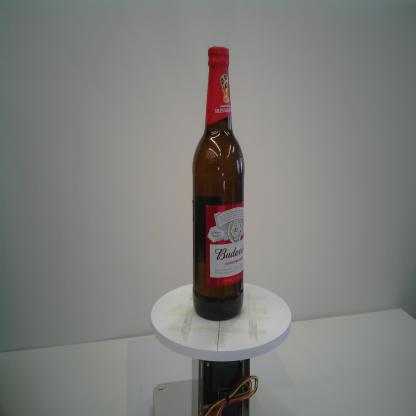Alcohol: (191, 45, 245, 322)
